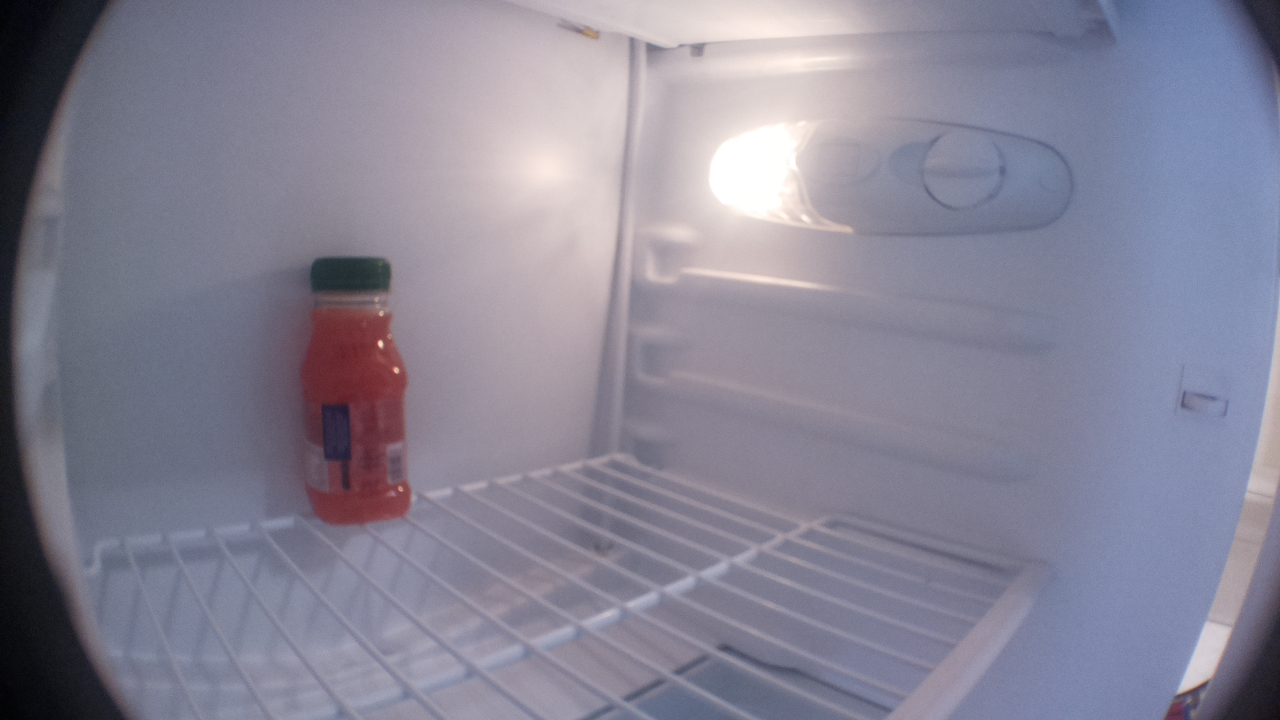juice: (288, 255, 424, 531)
